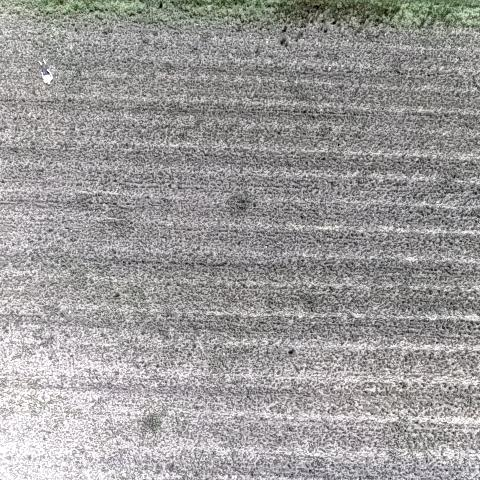person: (35, 58, 54, 86)
